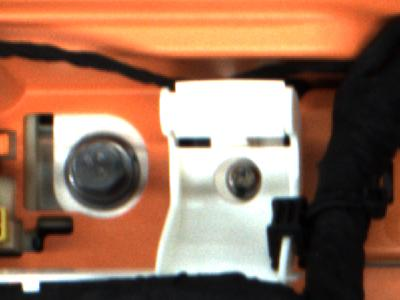nut_b: (59, 135, 145, 205)
